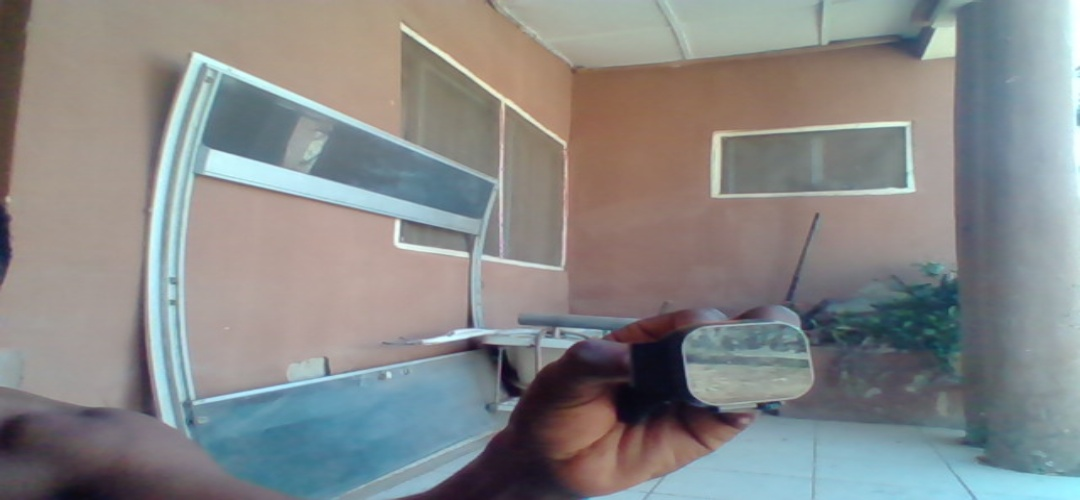smart_watch: (639, 318, 816, 415)
